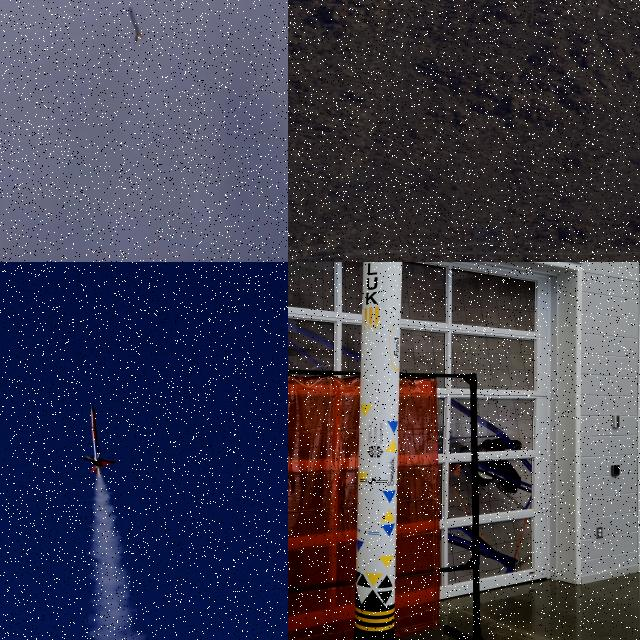Rocket: (353, 262, 402, 640), (84, 404, 116, 473), (129, 7, 143, 44)
